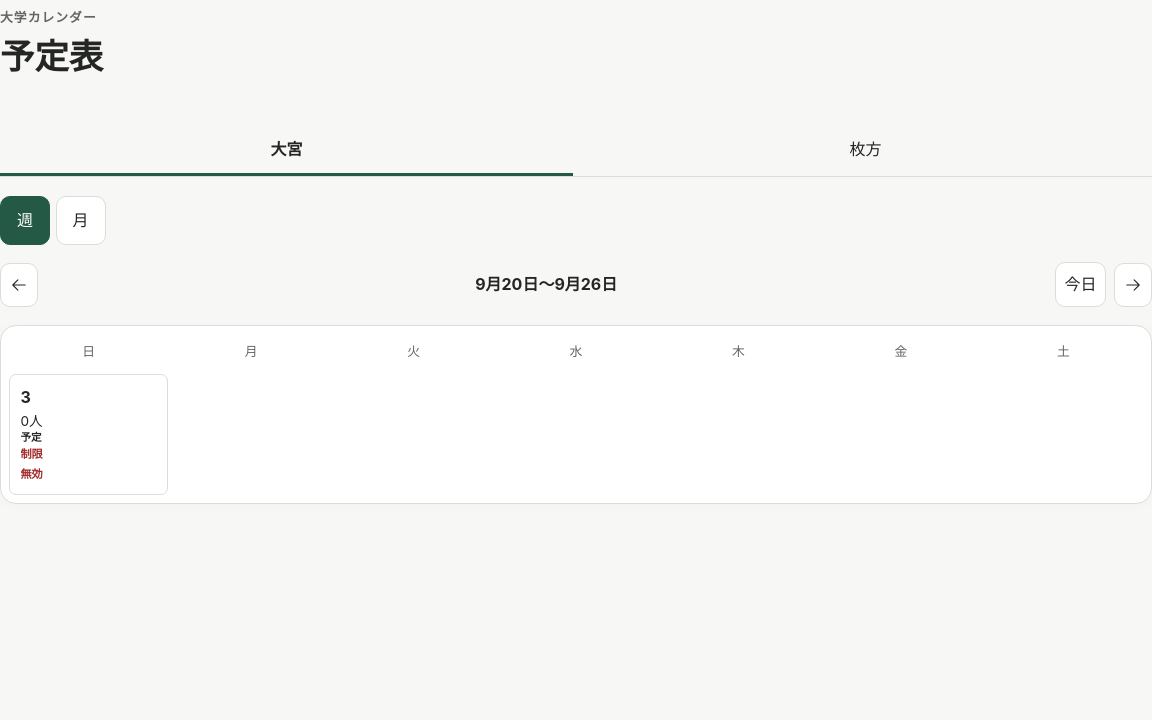
Scenario: calendar dialog dismissal › shows delete for an invalid future schedule with delete permission alone
Click the button with aria-label "2099-01-03". click: (89, 434)
box: [9, 374, 168, 495]
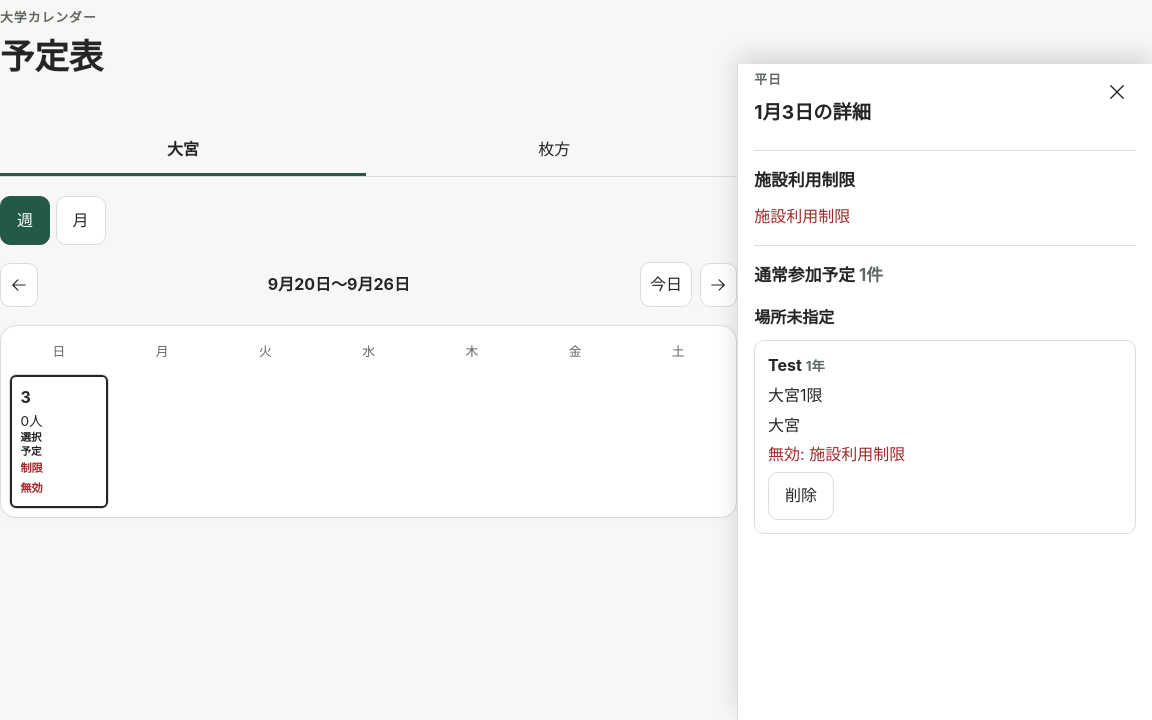
Expected: the dialog "詳細" is shown, [737, 64, 1151, 719]
Expected: the button "削除" is shown, [768, 472, 834, 520]
